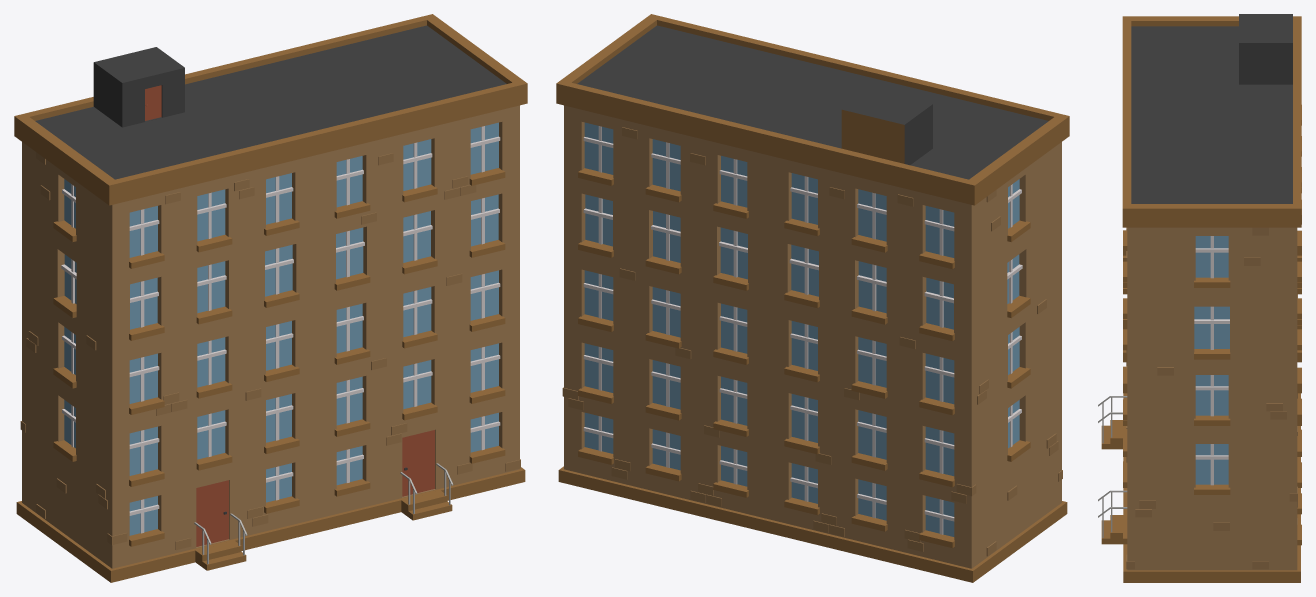
File: House_07.fbx
3 views of the same model, side by side, from view 1: azimuth 30°, elevation 25°; view 2: azimuth 150°, elevation 25°; view 3: azimuth 270°, elevation 25° (orthographic). The views are drawn at different scales.
Visible parts, largest first — view 1: House_07; view 2: House_07; view 3: House_07.
Boxes of the visible parts, x1,y1,x2,y2 form: House_07: [14, 14, 527, 582]; House_07: [556, 14, 1069, 582]; House_07: [1098, 14, 1301, 582].
Bounding box in the file's own units: 28.12 × 28.08 × 12.59.
